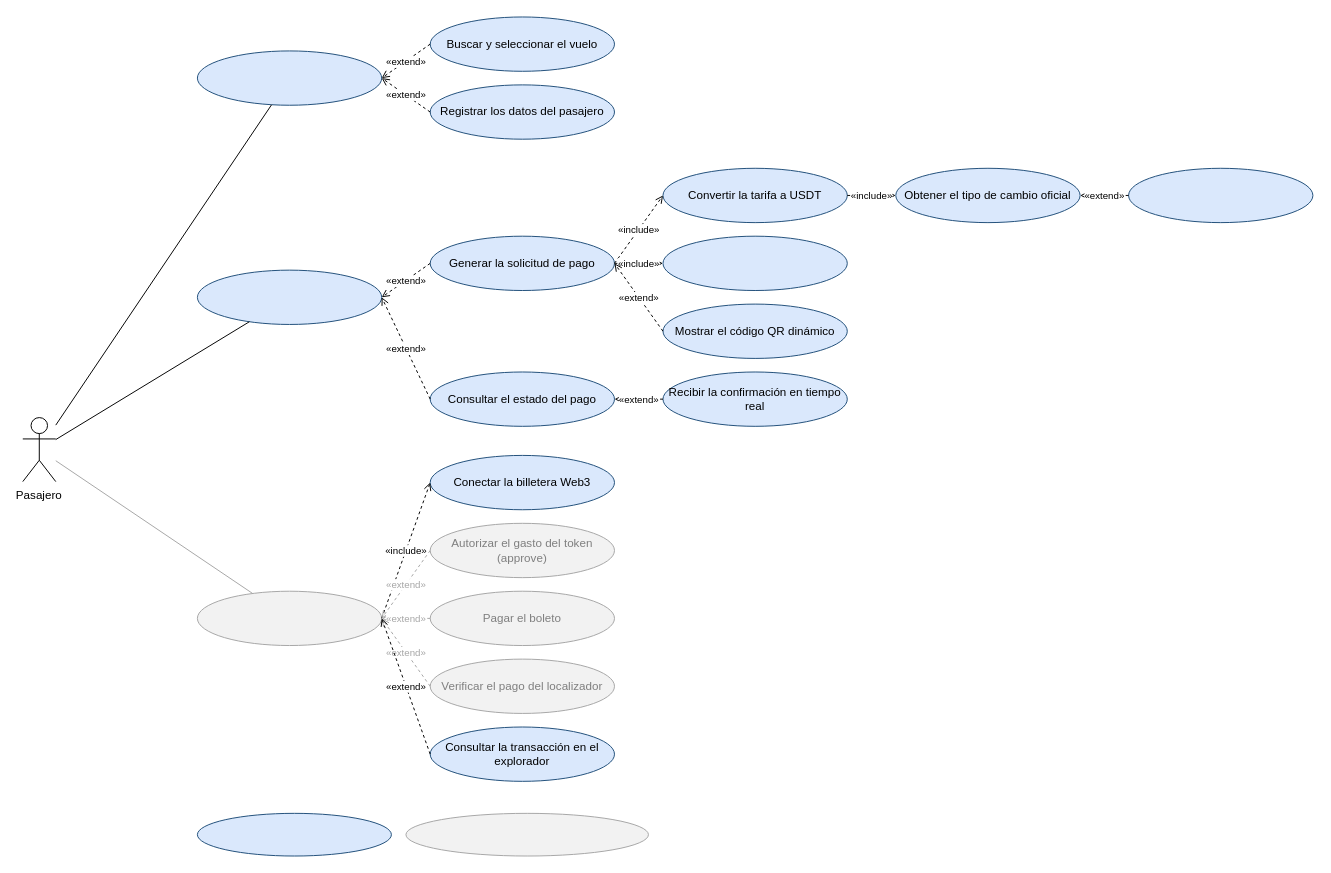
This 1331x873 diagram has some shape labels left out. The centre of each missing label's shape, as x and y in pixels:
"Aplicar la cotización de contingencia" goes at pixel 1220 195.
"Caso de uso de este incremento" goes at pixel 293 834.
"Caso de uso de un incremento anterior" goes at pixel 526 834.
"Gestionar el pago en la cadena de bloques" goes at pixel 289 618.
"Gestionar la reserva del vuelo" goes at pixel 289 77.
"Gestionar la solicitud de pago" goes at pixel 289 296.
"Registrar la tarifa en el contrato" goes at pixel 754 263.
